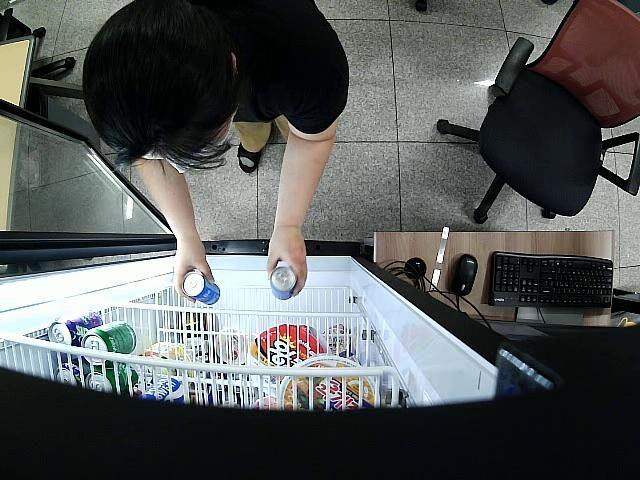00_hand: (266, 230, 307, 296), (173, 246, 215, 305)
15_letsbe: (180, 274, 220, 306), (268, 267, 299, 300)
